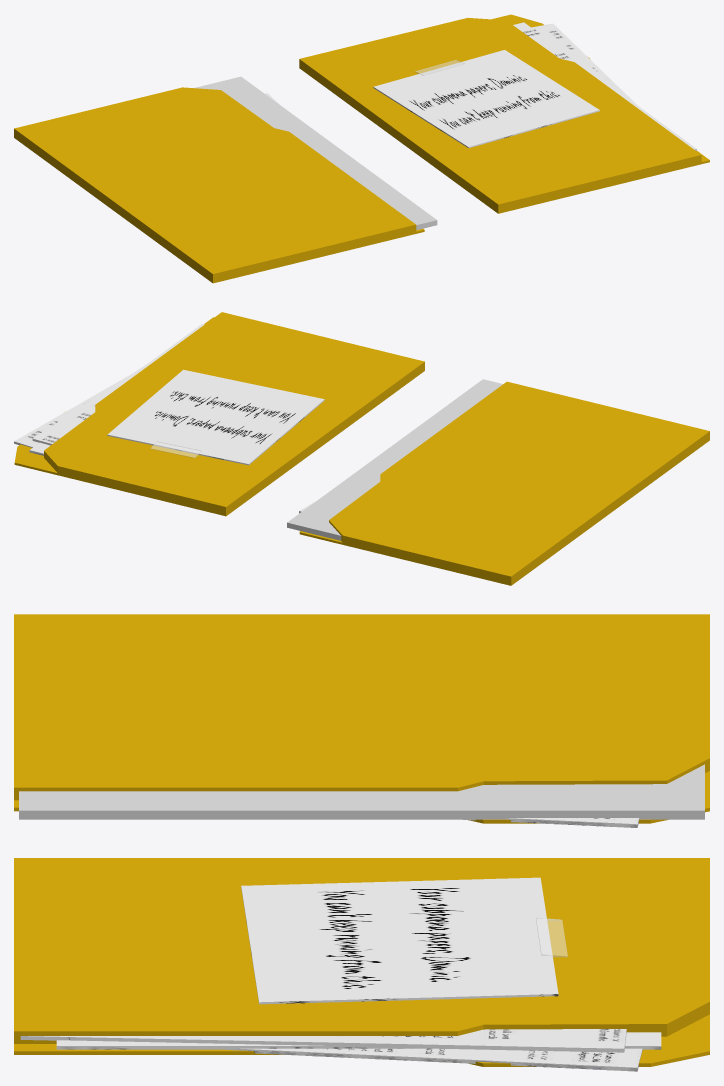
File: FilesFinalV2.fbx
The picture shows the model from 3 angles, top to bottom: view 1: azimuth 30°, elevation 25°; view 2: azimuth 150°, elevation 25°; view 3: azimuth 270°, elevation 25°; orthographic projection. The views are drawn at different scales.
Parts seen in each view (by area): view 1: Clue File, File, Hollow; view 2: Clue File, File, Hollow; view 3: Clue File, File, Hollow.
Boxes of the visible parts, x1=… form: Clue File: x1=299, y1=14, x2=709, y2=213; File: x1=14, y1=87, x2=424, y2=283; Hollow: x1=194, y1=76, x2=437, y2=230; Clue File: x1=14, y1=312, x2=424, y2=516; File: x1=299, y1=381, x2=709, y2=585; Hollow: x1=287, y1=379, x2=502, y2=540; Clue File: x1=14, y1=858, x2=709, y2=1071; File: x1=14, y1=614, x2=709, y2=827; Hollow: x1=19, y1=764, x2=704, y2=819.
Size of the model in its own units: 110 by 2.31 by 73.44.
Materials: 4 (2 with a texture image).
